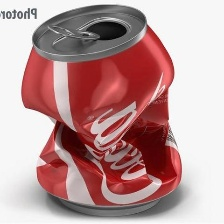can: (16, 3, 187, 219)
